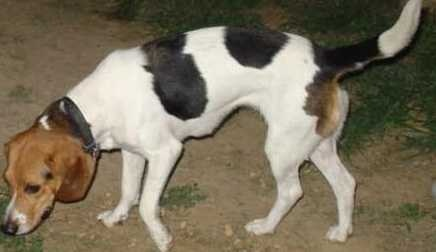dog: (1, 16, 390, 234)
